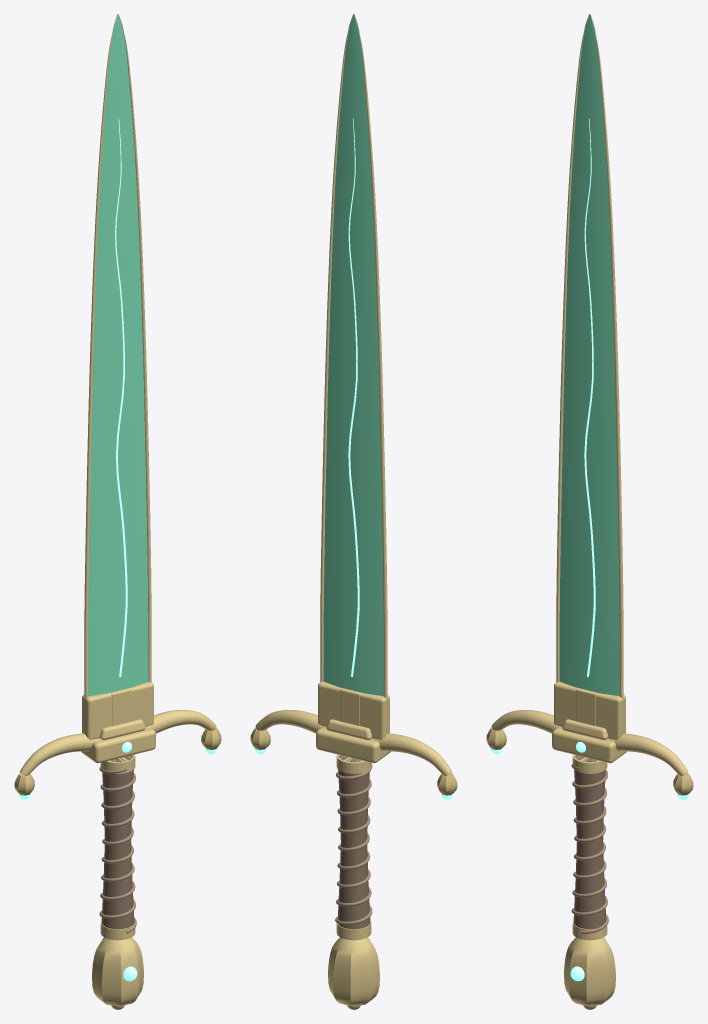
Rendered from rpg_sword_01.glb.
The picture shows the model from 3 angles, left to right: view 1: azimuth 30°, elevation 25°; view 2: azimuth 150°, elevation 25°; view 3: azimuth 330°, elevation 25°; orthographic projection.
Parts seen in each view (by area): view 1: клинок, рукоять, навершие, обод_лв, гарда, обод_пр, рикассо, обмотка, жила_пр, перо_лв, перо_пр; view 2: клинок, рукоять, навершие, гарда, обод_лв, обод_пр, рикассо, обмотка, жила_лв, перо_лв, перо_пр; view 3: клинок, рукоять, навершие, обод_пр, гарда, обод_лв, рикассо, обмотка, жила_пр, перо_пр, перо_лв.
Boxes of the visible parts, bbox=[...] form: клинок: bbox=[88, 14, 148, 696]; рукоять: bbox=[101, 755, 134, 929]; навершие: bbox=[92, 937, 143, 1006]; обод_лв: bbox=[84, 14, 117, 698]; гарда: bbox=[81, 689, 155, 763]; обод_пр: bbox=[118, 14, 151, 681]; рикассо: bbox=[82, 681, 153, 739]; обмотка: bbox=[99, 767, 136, 933]; жила_пр: bbox=[115, 119, 127, 676]; перо_лв: bbox=[19, 733, 100, 775]; перо_пр: bbox=[145, 710, 216, 733]; клинок: bbox=[323, 14, 383, 696]; рукоять: bbox=[337, 755, 370, 929]; навершие: bbox=[328, 937, 379, 1006]; гарда: bbox=[316, 689, 390, 763]; обод_лв: bbox=[354, 14, 387, 698]; обод_пр: bbox=[320, 14, 353, 681]; рикассо: bbox=[318, 681, 389, 739]; обмотка: bbox=[335, 763, 372, 924]; жила_лв: bbox=[348, 118, 359, 676]; перо_лв: bbox=[371, 733, 452, 775]; перо_пр: bbox=[255, 710, 326, 733]; клинок: bbox=[559, 14, 619, 696]; рукоять: bbox=[573, 755, 606, 929]; навершие: bbox=[564, 937, 615, 1006]; обод_пр: bbox=[590, 14, 623, 698]; гарда: bbox=[552, 689, 626, 763]; обод_лв: bbox=[556, 14, 589, 681]; рикассо: bbox=[554, 681, 625, 739]; обмотка: bbox=[571, 764, 608, 933]; жила_пр: bbox=[584, 118, 595, 676]; перо_пр: bbox=[607, 733, 688, 775]; перо_лв: bbox=[491, 710, 562, 733].
Size of the model in its own units: 279 by 1304 by 65.64.
